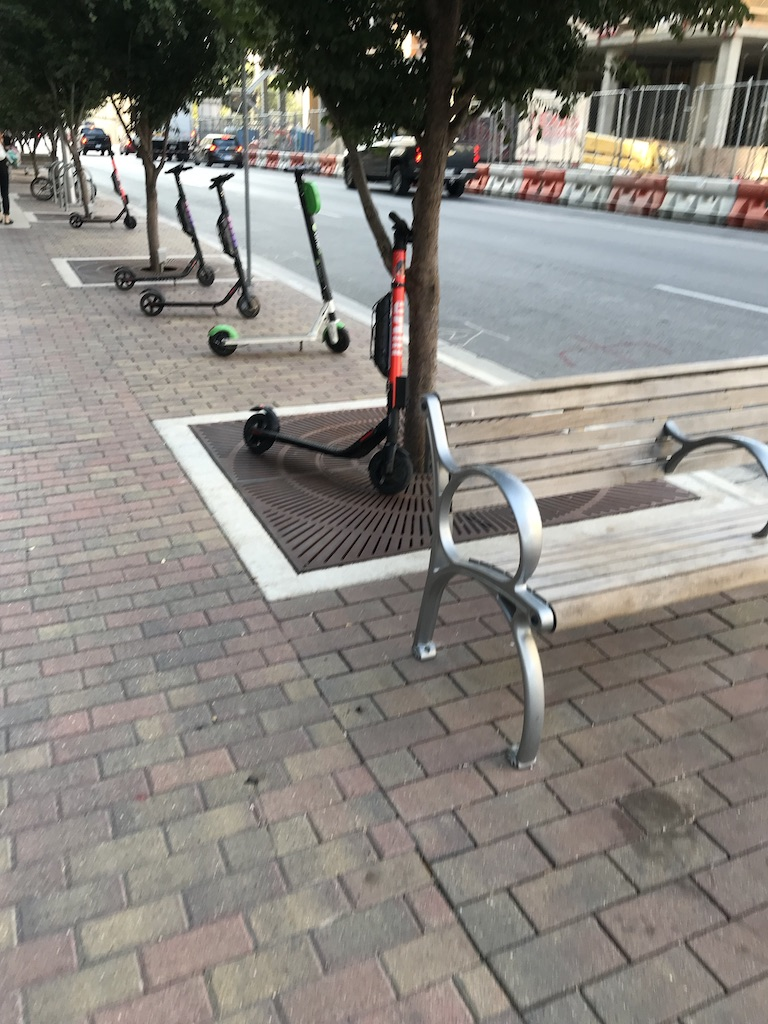scooter: (243, 213, 415, 494), (208, 169, 350, 358), (140, 174, 262, 319), (114, 163, 216, 291), (69, 151, 138, 231)
